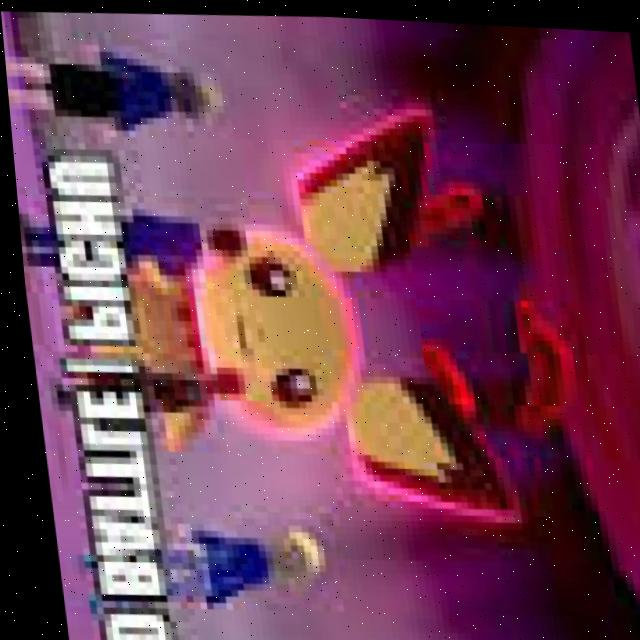pichu: (103, 97, 523, 512)
